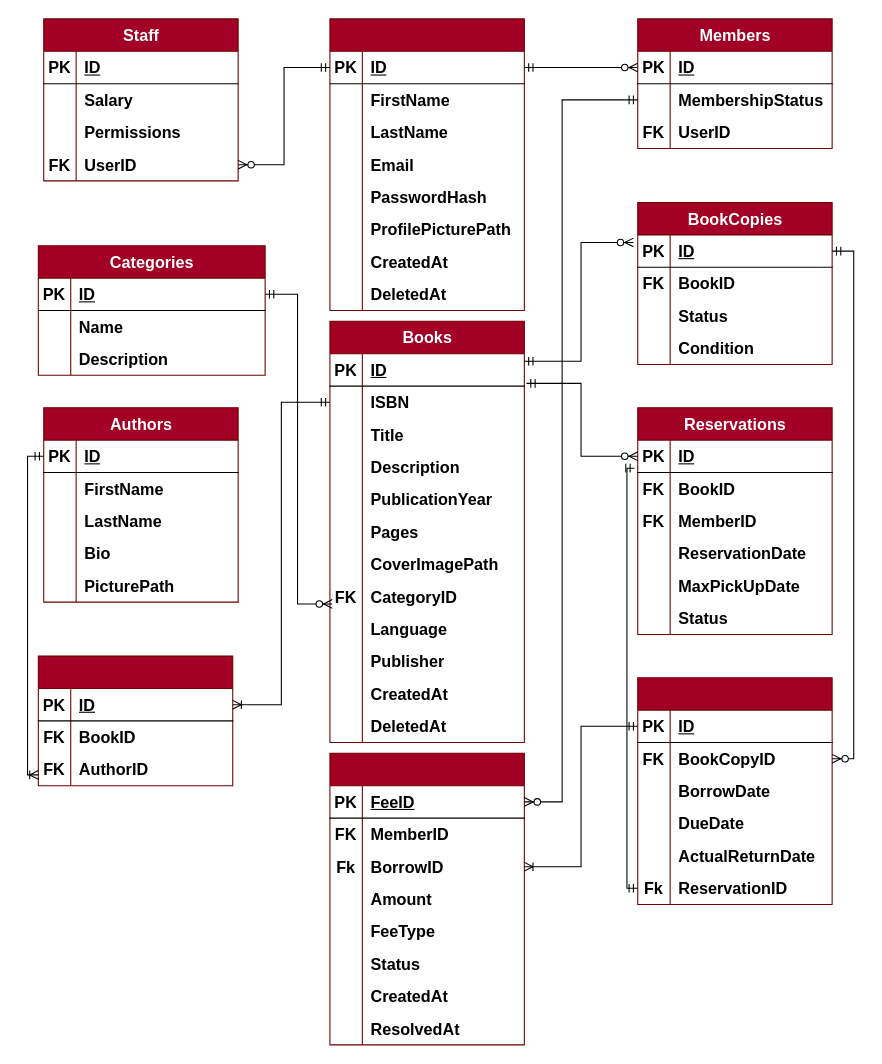
Image size: 882x1064. Some labels were removed from this diagram. The box of each missing label's shape, as (x1, y1, x2, y2) in pixels:
BookAuthor: (37, 655, 233, 786)
Borrows: (637, 677, 832, 905)
Fees: (329, 752, 524, 1045)
People: (329, 18, 524, 310)
